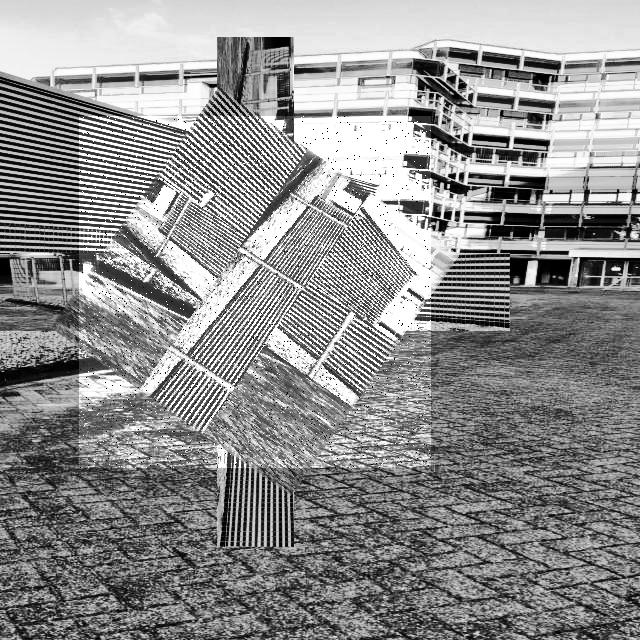fences: (79, 116, 431, 468)
